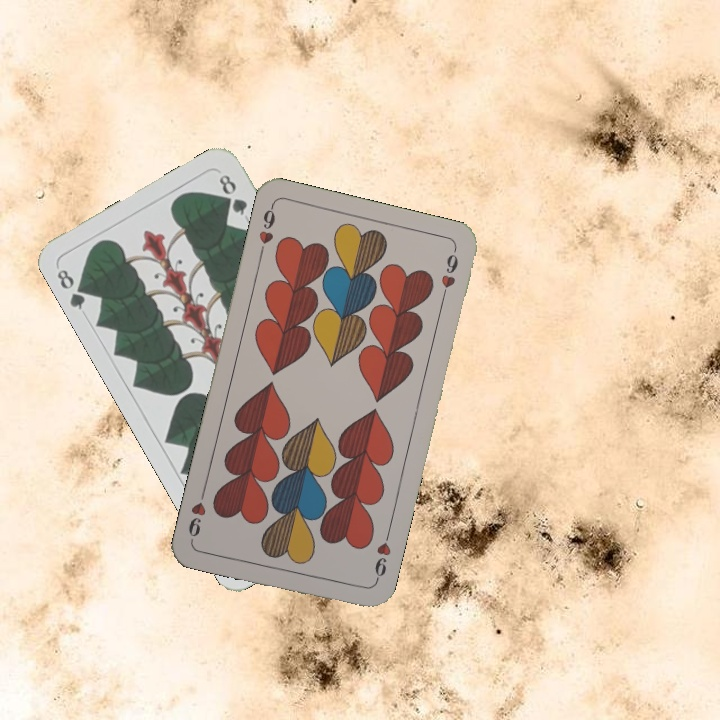G8: (52, 265, 93, 313)
H9: (370, 528, 394, 586), (255, 201, 278, 260)
